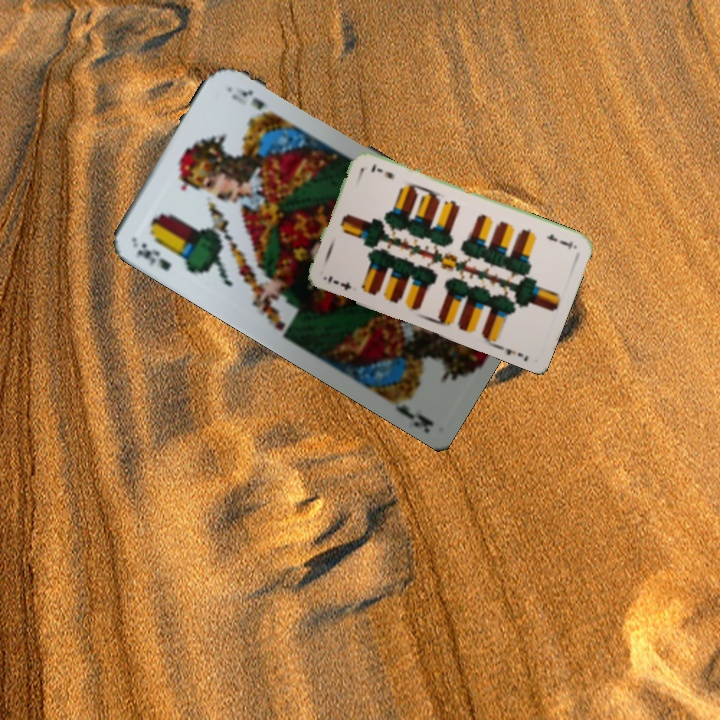E7: (542, 230, 577, 252), (324, 271, 354, 293)
EK: (131, 239, 174, 274)
